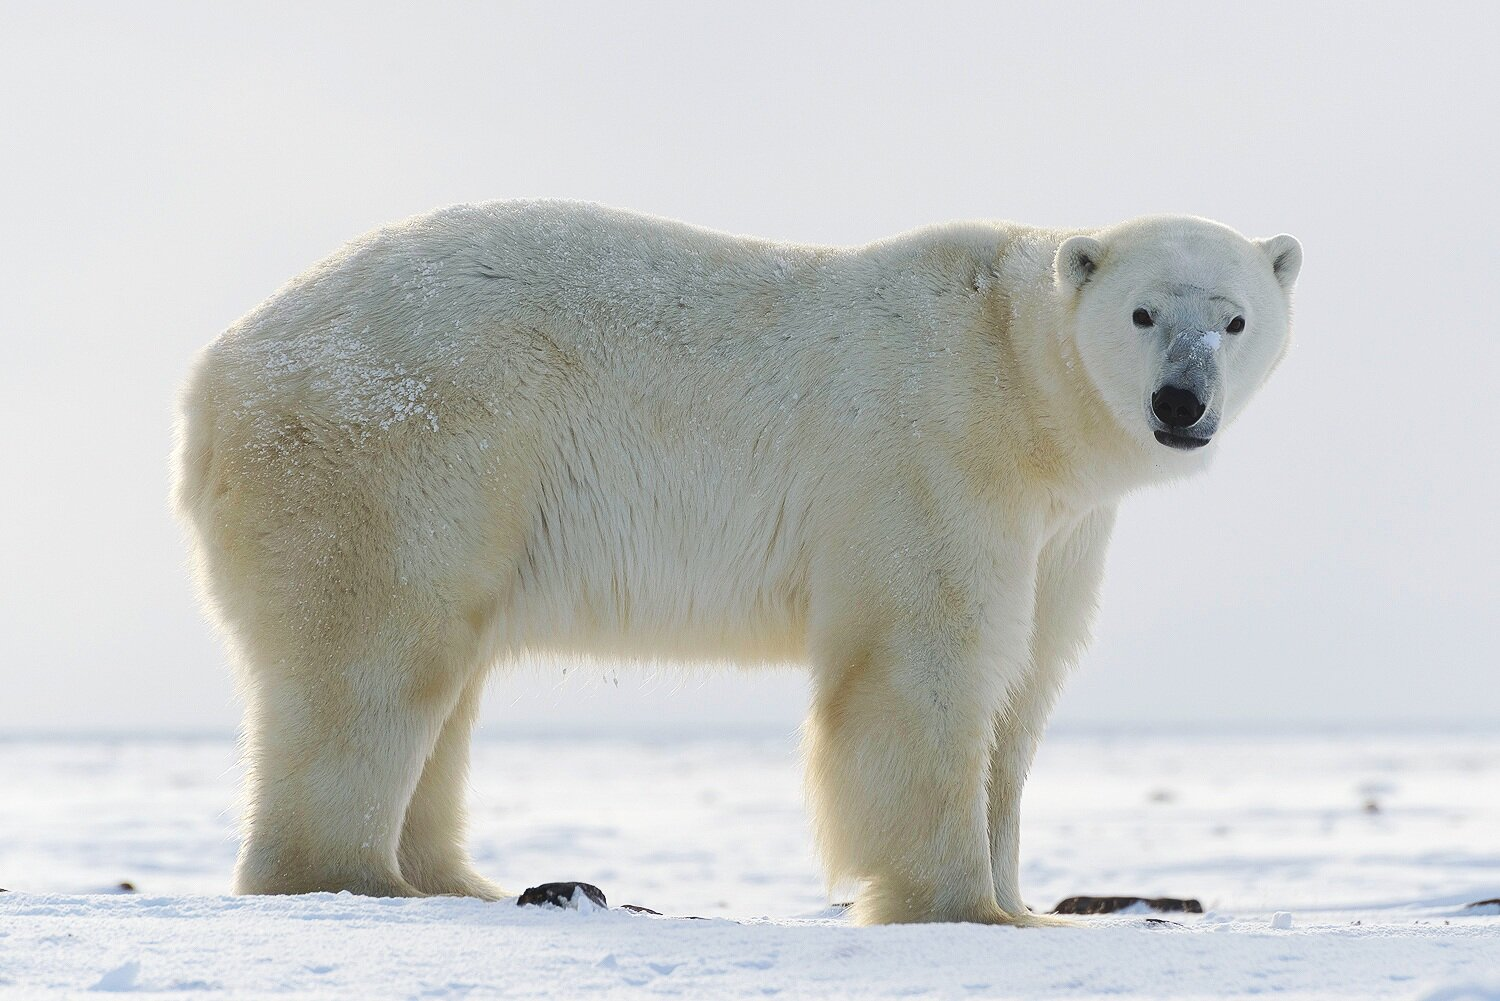PolarBear: (135, 178, 1316, 927)
